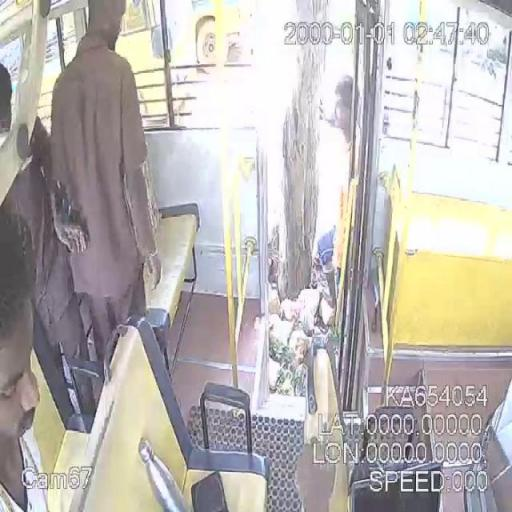persona: (48, 1, 162, 370), (0, 209, 47, 511)
